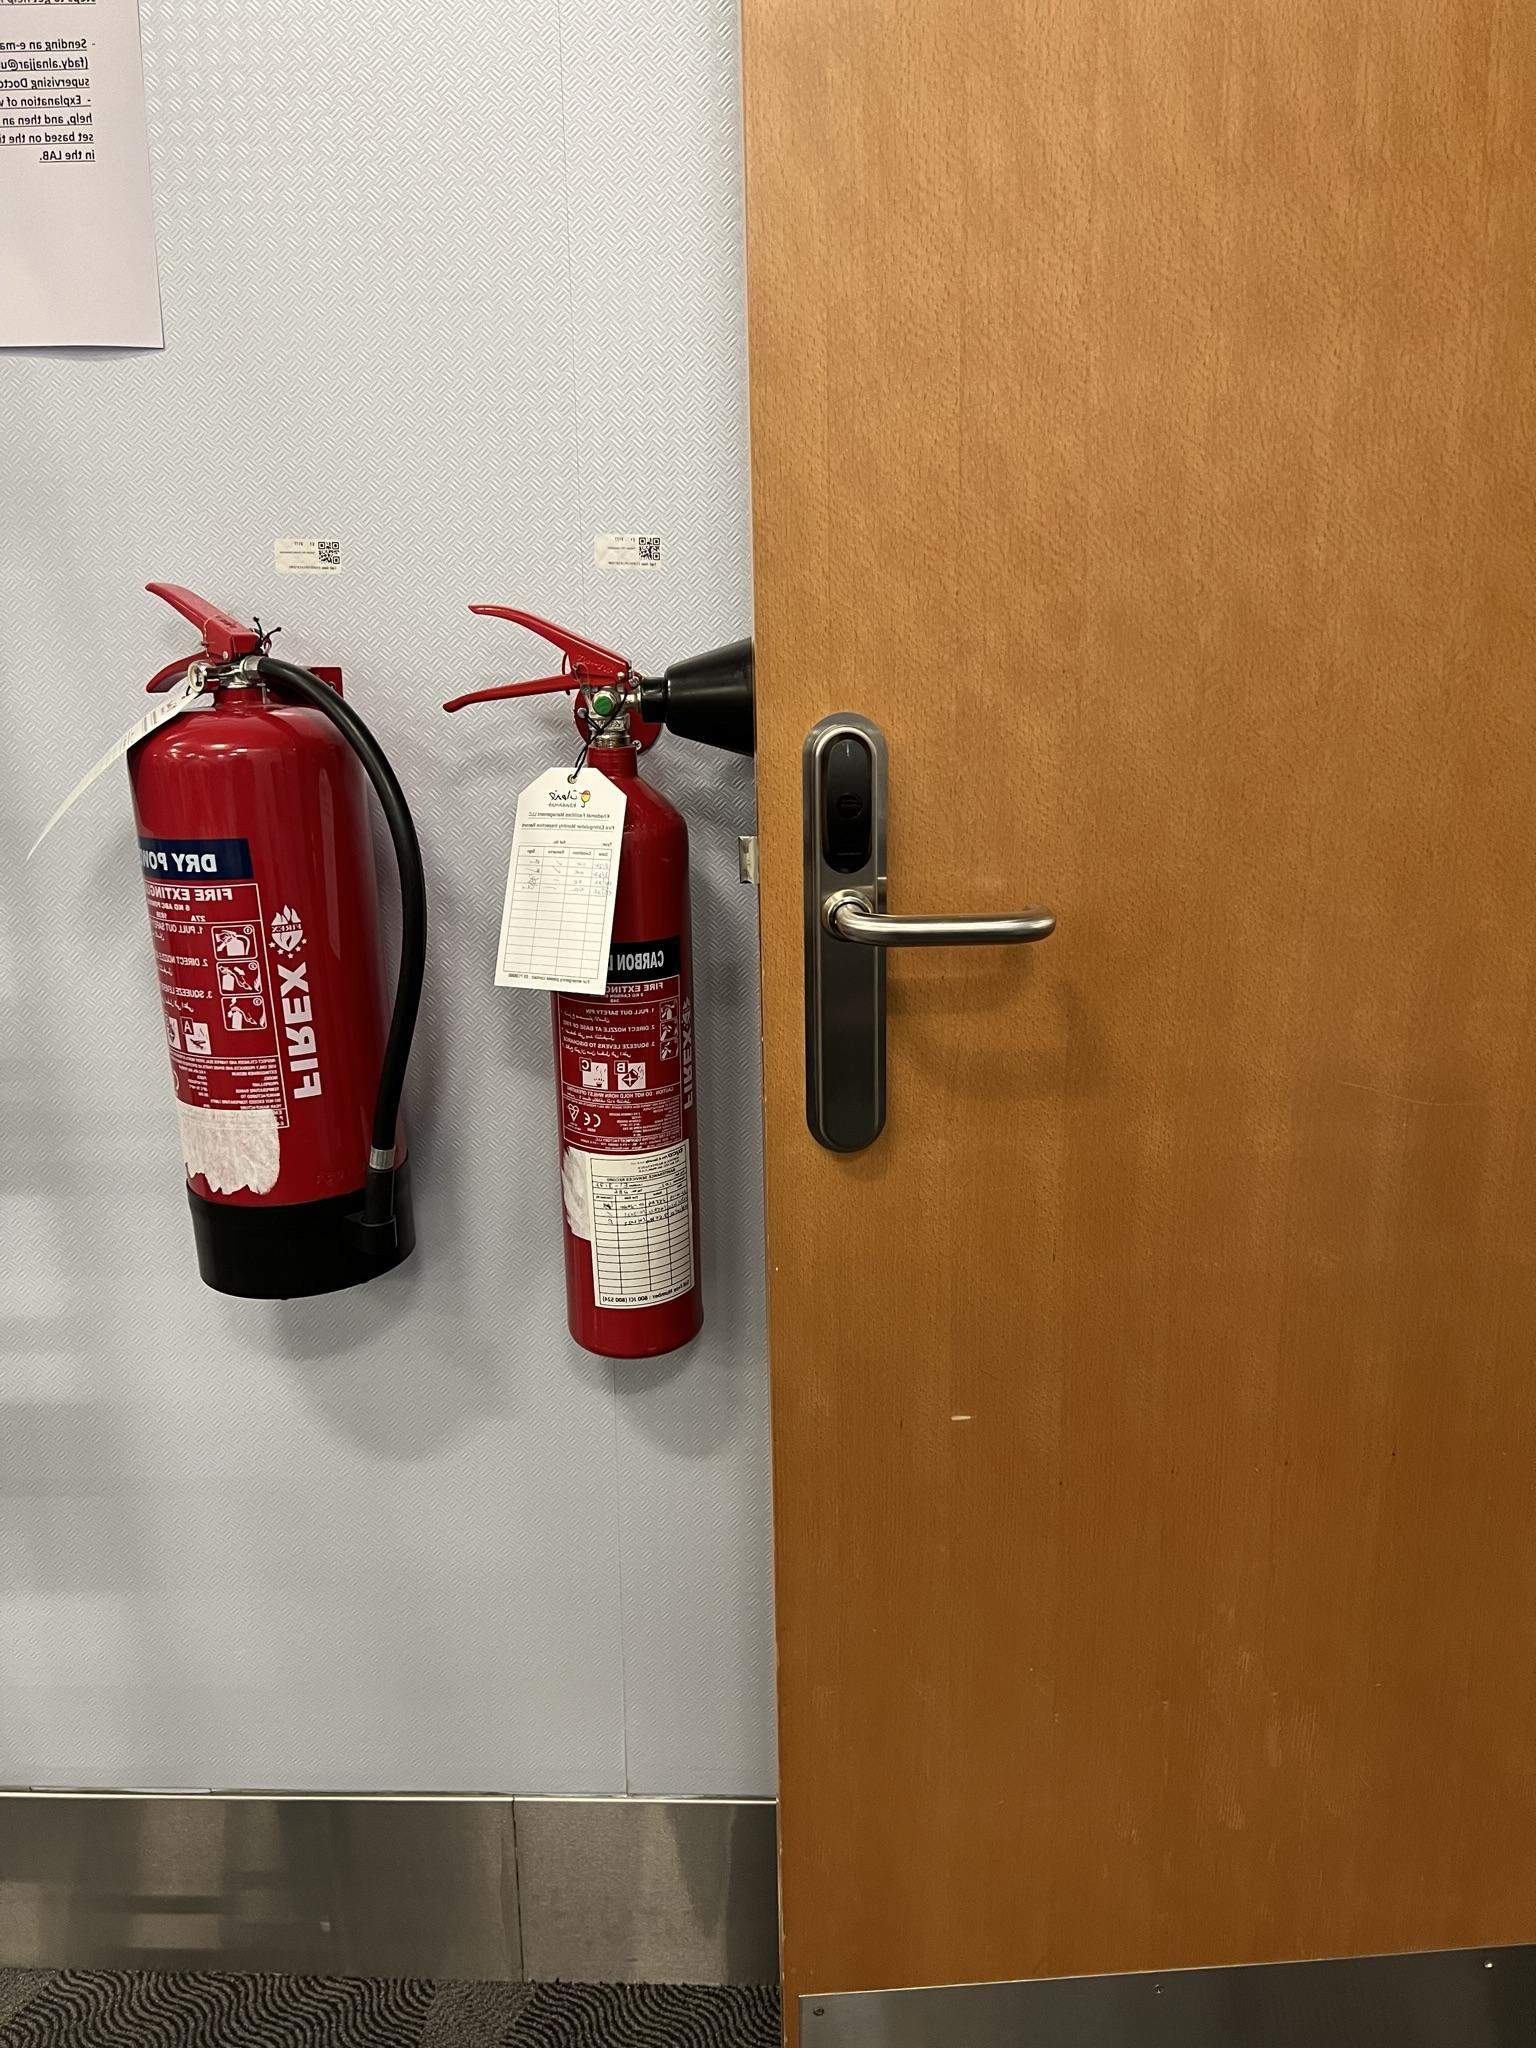door: (750, 0, 1536, 2048)
handle: (786, 706, 1055, 1159)
